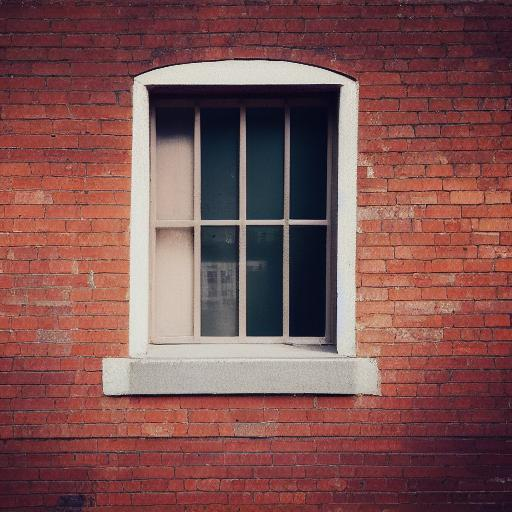Window: (97, 58, 386, 397)
